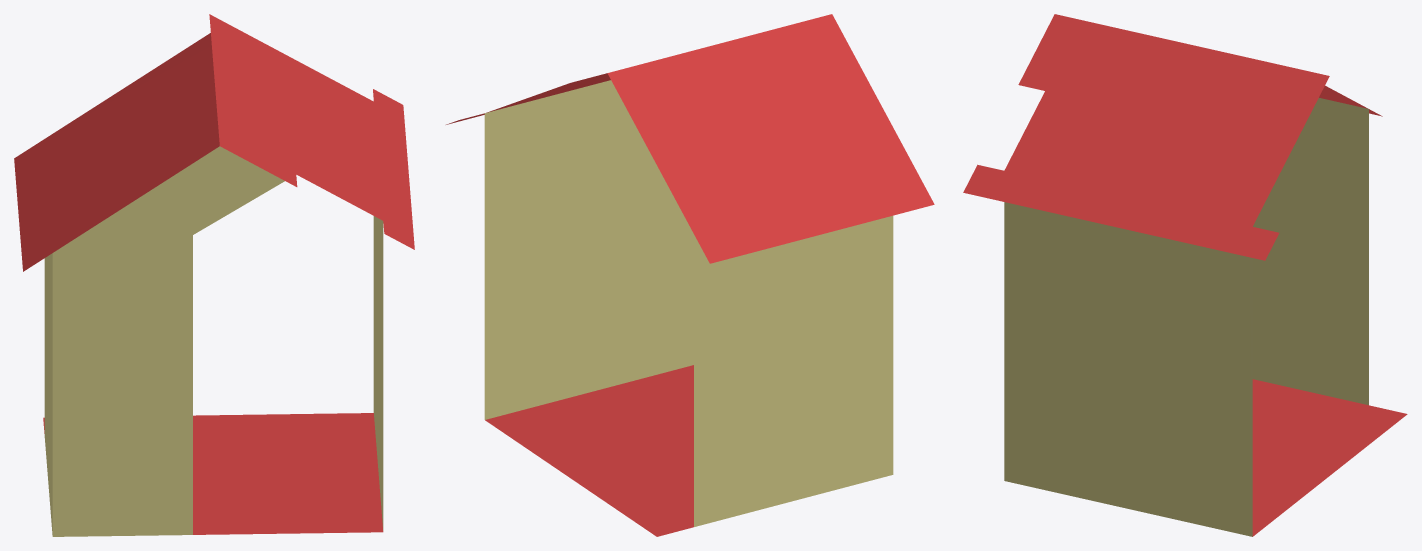
3 views of the same model, side by side, from view 1: azimuth 30°, elevation 25°; view 2: azimuth 150°, elevation 25°; view 3: azimuth 270°, elevation 25° (orthographic).
Size of the model in its own units: 12.45 by 10.95 by 10.86.
